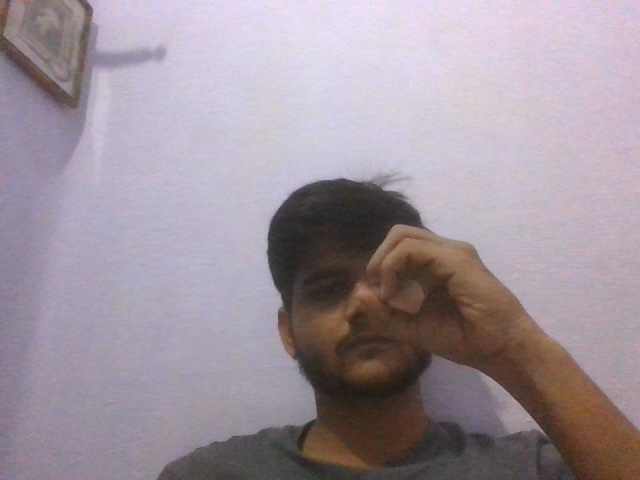no: (342, 221, 529, 383)
